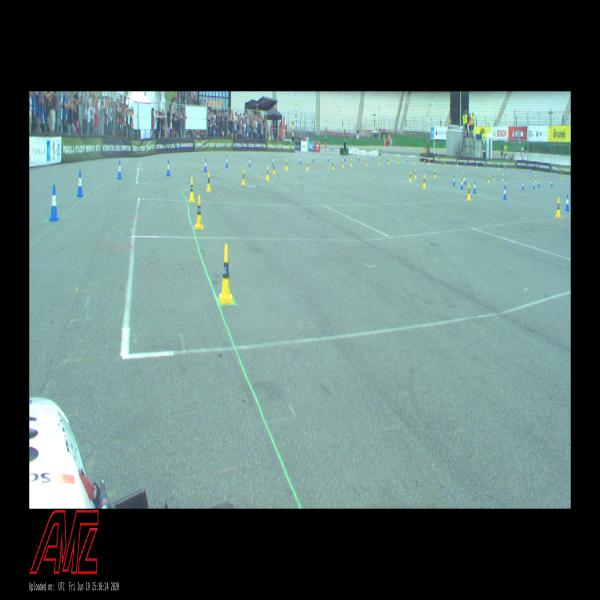blue_cone: (49, 184, 59, 222), (77, 170, 83, 197), (117, 160, 122, 179), (565, 194, 570, 211), (166, 160, 170, 176), (503, 185, 507, 200), (204, 158, 207, 171), (464, 174, 467, 185), (474, 180, 476, 194), (504, 179, 507, 188), (226, 155, 228, 168), (461, 178, 463, 190), (249, 156, 251, 167), (453, 175, 455, 186), (522, 180, 524, 190), (272, 156, 274, 165), (538, 180, 540, 188), (532, 181, 534, 189)
yellow_cone: (218, 244, 234, 303), (196, 195, 204, 229), (189, 178, 195, 202), (206, 172, 211, 192), (556, 198, 561, 218), (242, 168, 245, 186), (272, 162, 276, 175), (467, 184, 470, 200), (266, 166, 269, 180), (285, 159, 288, 170), (414, 169, 417, 179), (423, 175, 425, 188), (410, 171, 412, 182), (306, 161, 308, 171), (488, 174, 490, 182), (434, 170, 436, 178), (463, 172, 464, 181)
